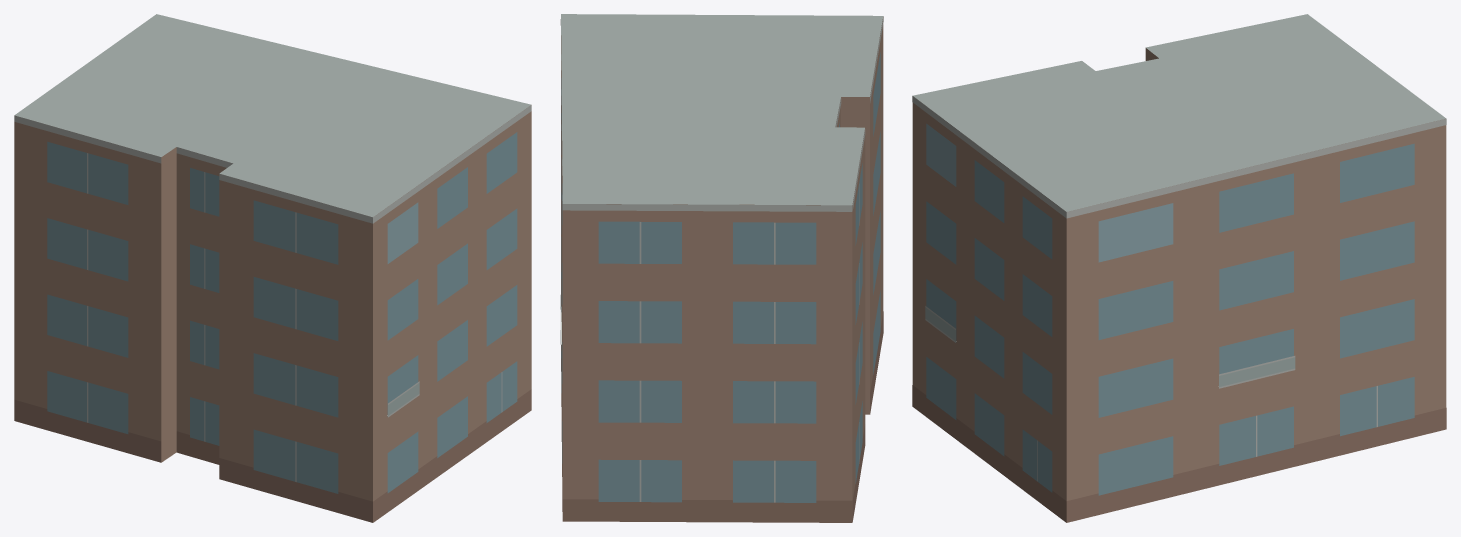
File: survey-upis-32532233.glb
3 views of the same model, side by side, from view 1: azimuth 30°, elevation 25°; view 2: azimuth 150°, elevation 25°; view 3: azimuth 270°, elevation 25° (orthographic). The views are drawn at different scales.
Visible parts, largest first — view 1: survey-upis-32532233.tmp; view 2: survey-upis-32532233.tmp; view 3: survey-upis-32532233.tmp.
Part boxes in pixels (bbox=[...]): survey-upis-32532233.tmp: bbox=[14, 14, 531, 522]; survey-upis-32532233.tmp: bbox=[560, 14, 883, 522]; survey-upis-32532233.tmp: bbox=[912, 14, 1446, 522].
Bounding box in the file's own units: 15.99 × 11.7 × 18.22.
